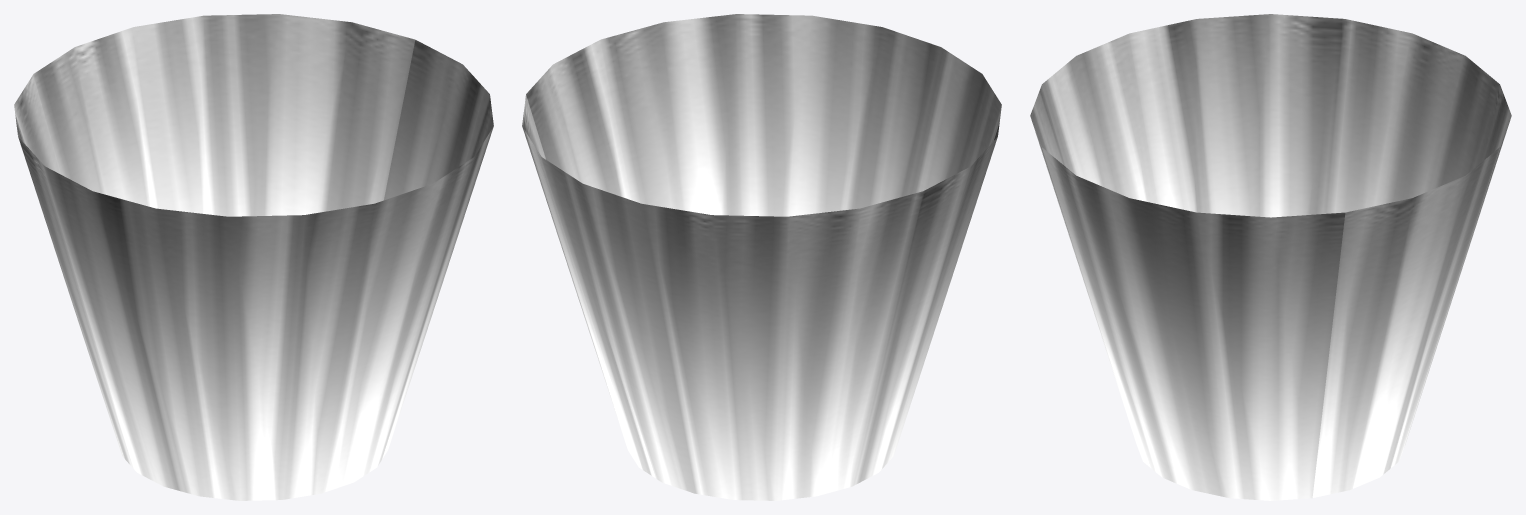
File: FX_PowerUp_Aura.fbx
3 views of the same model, side by side, from view 1: azimuth 30°, elevation 25°; view 2: azimuth 150°, elevation 25°; view 3: azimuth 270°, elevation 25° (orthographic).
Visible parts, largest first — view 1: polySurface9; view 2: polySurface9; view 3: polySurface9.
Part boxes in pixels (box(x1,y1,x2,y2)): polySurface9: box(14, 14, 493, 500); polySurface9: box(522, 14, 1001, 500); polySurface9: box(1030, 14, 1511, 500).
Size of the model in its own units: 29.7 by 22.34 by 29.7.
